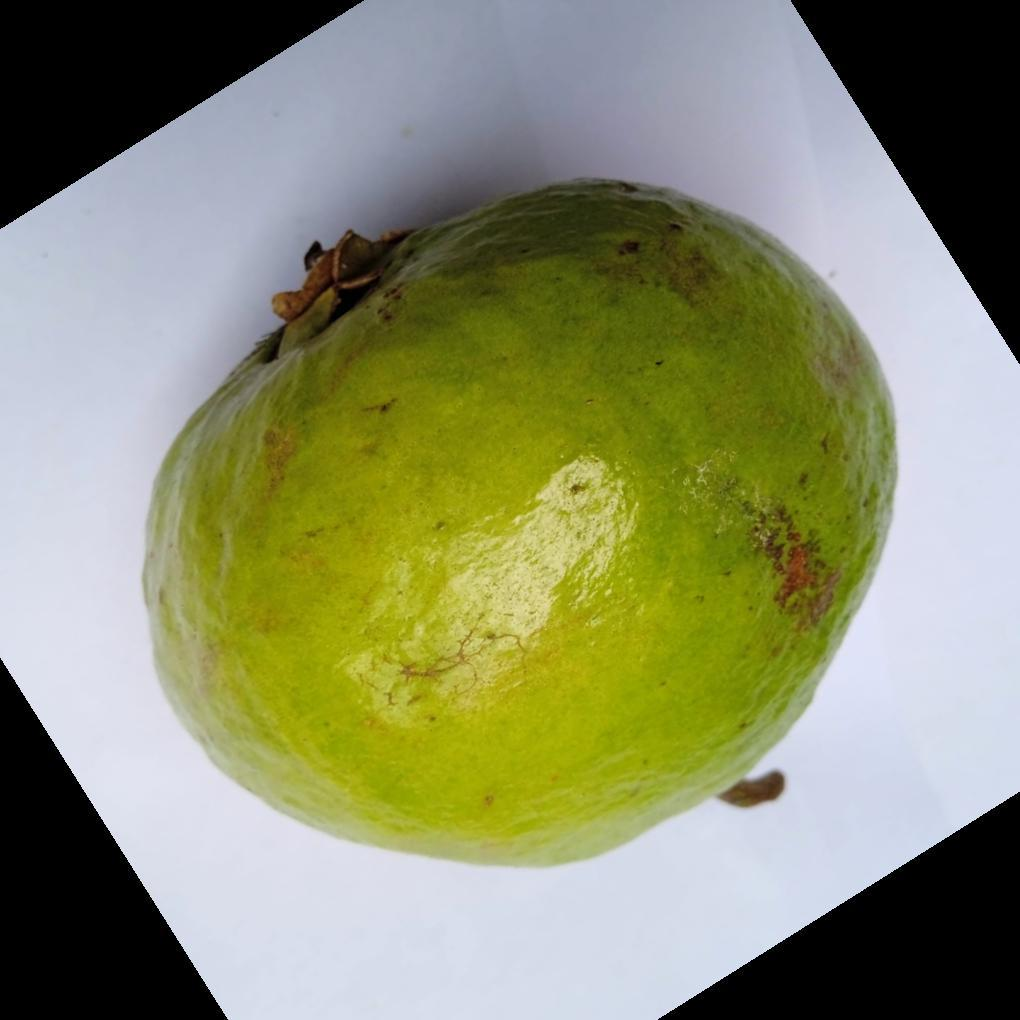FreshGuava: (138, 180, 900, 873)
